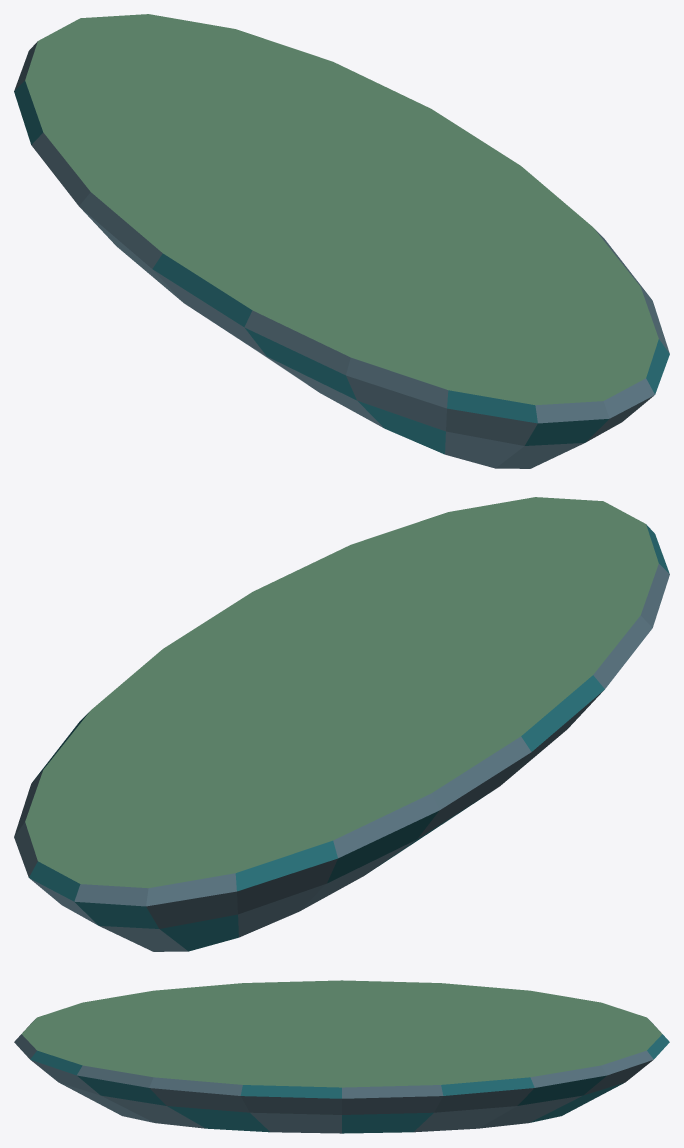
Rendered from environment_island_01.glb.
3 renders of one model, top to bottom at view 1: azimuth 30°, elevation 25°; view 2: azimuth 150°, elevation 25°; view 3: azimuth 270°, elevation 25°, orthographic. The views are drawn at different scales.
Parts seen in each view (by area): view 1: environment_island_01__Infield; view 2: environment_island_01__Infield; view 3: environment_island_01__Infield.
Boxes of the visible parts, bbox=[...] form: environment_island_01__Infield: bbox=[14, 14, 669, 468]; environment_island_01__Infield: bbox=[14, 497, 669, 951]; environment_island_01__Infield: bbox=[14, 980, 669, 1133].
Bounding box in the file's own units: 36 × 11 × 88.
